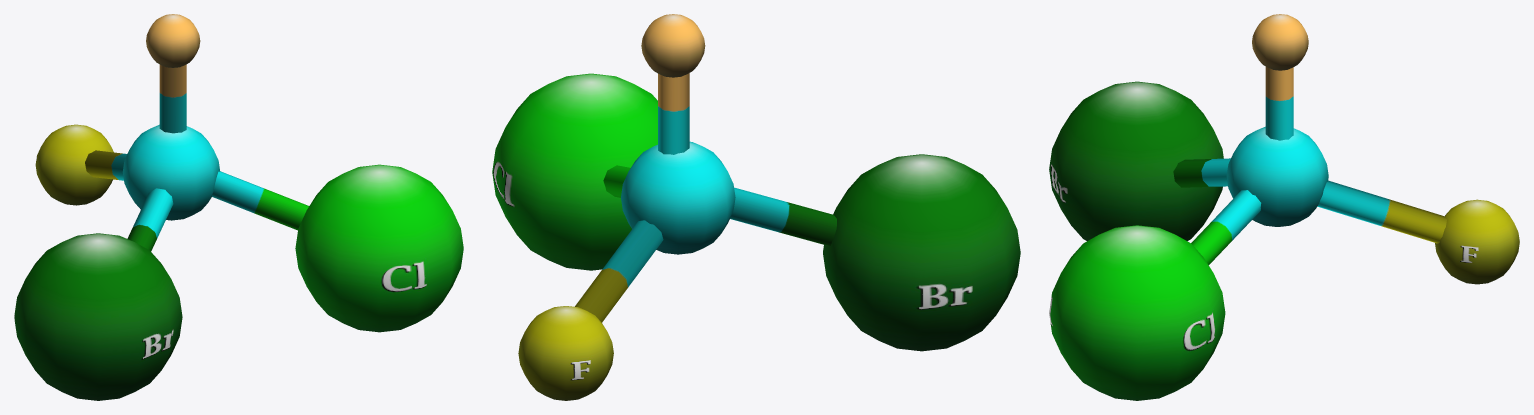
Rendered from BromoChloroFluoromethane.dae.
The picture shows the model from 3 angles, left to right: view 1: azimuth 30°, elevation 25°; view 2: azimuth 150°, elevation 25°; view 3: azimuth 270°, elevation 25°; orthographic projection. The views are drawn at different scales.
Parts seen in each view (by area): view 1: polySurface42; view 2: polySurface42; view 3: polySurface42.
Part boxes in pixels (bbox=[...]): polySurface42: bbox=[14, 14, 463, 400]; polySurface42: bbox=[492, 14, 1020, 400]; polySurface42: bbox=[1049, 14, 1519, 400].
Bounding box in the file's own units: 7.33 × 4.79 × 6.68.
1 material, 1 textured.
